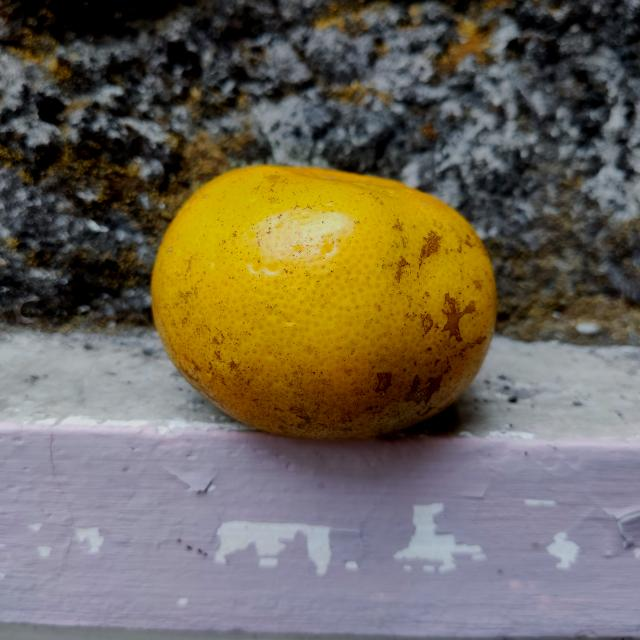orange: (148, 164, 496, 440)
